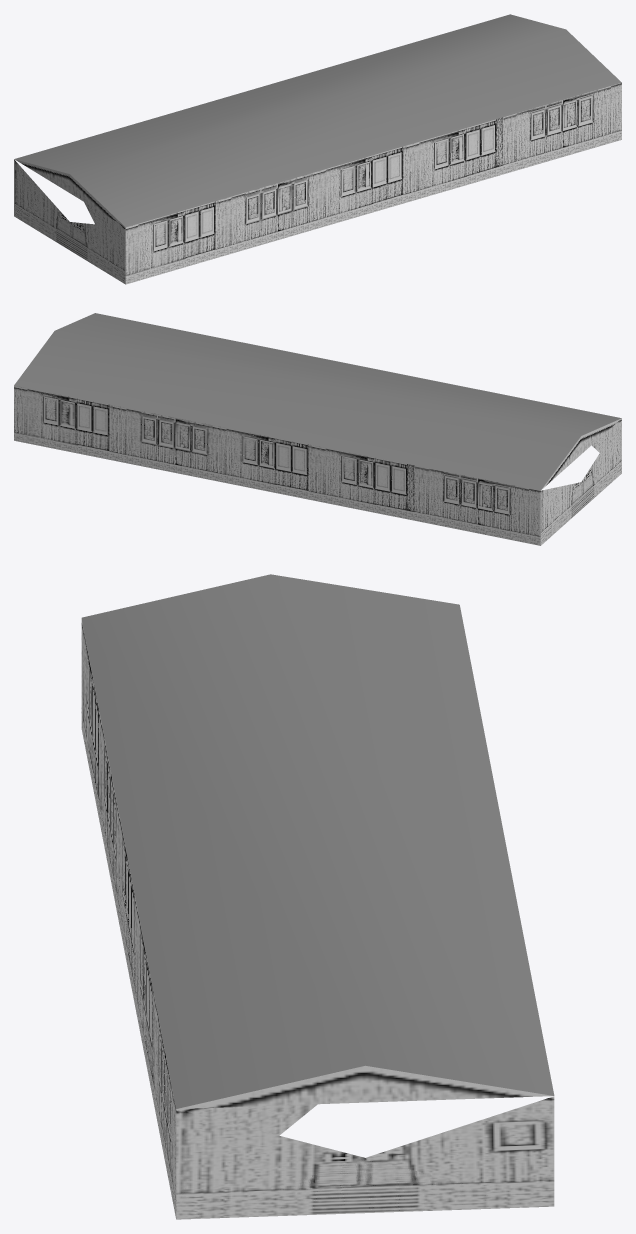
File: Verwaltungsgebaeude_2.gltf
The picture shows the model from 3 angles, top to bottom: view 1: azimuth 30°, elevation 25°; view 2: azimuth 150°, elevation 25°; view 3: azimuth 270°, elevation 25°; orthographic projection. The views are drawn at different scales.
Visible parts, largest first — view 1: Dach.1; view 2: Dach.1; view 3: Dach.1.
Boxes of the visible parts, x1,y1,x2,y2 form: Dach.1: (14, 14, 621, 284); Dach.1: (14, 313, 621, 545); Dach.1: (81, 574, 554, 1219).
Size of the model in its own units: 44 by 6.02 by 17.45.
Materials: 4 (3 with a texture image).
